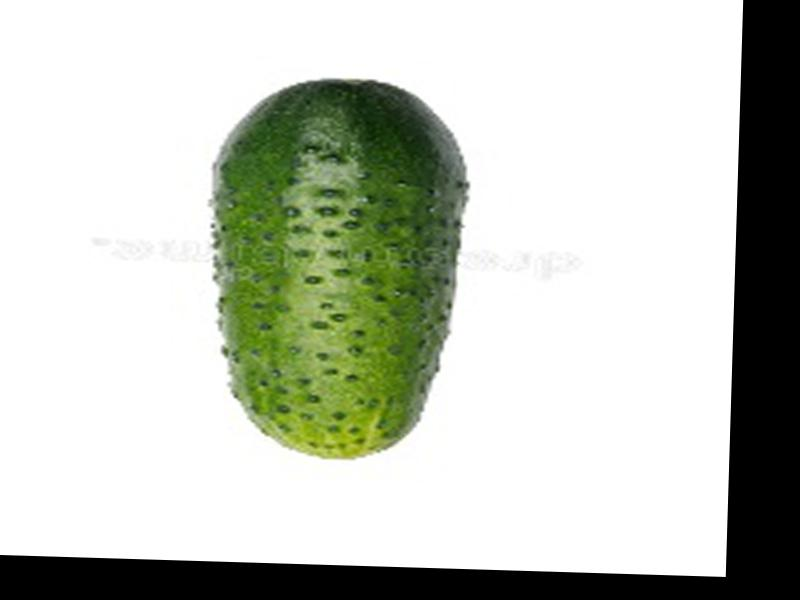Cucumber: (199, 74, 472, 465)
